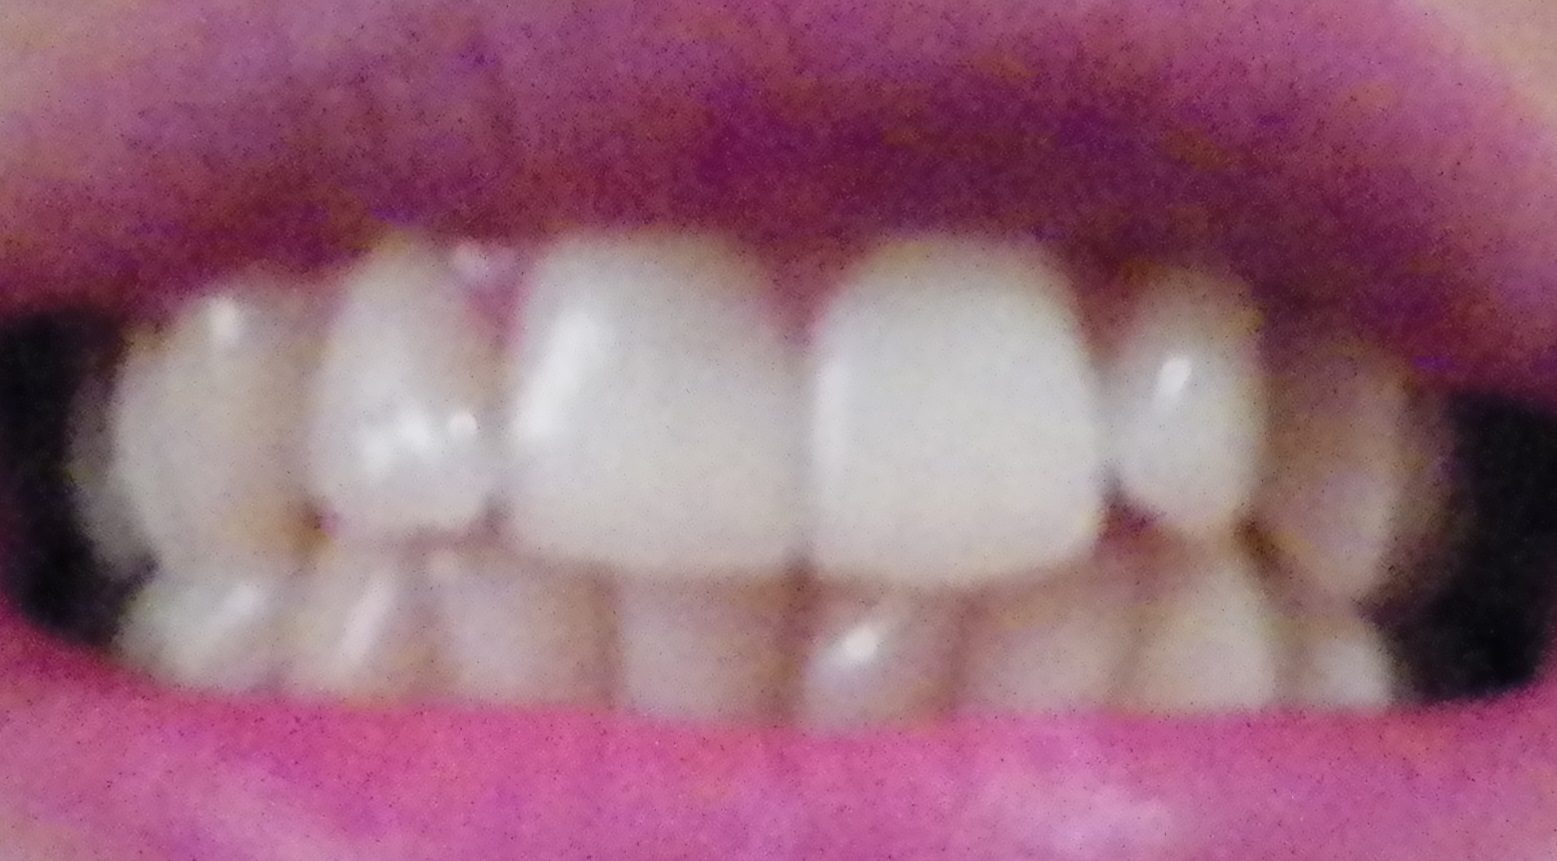boca: (88, 238, 1450, 726)
